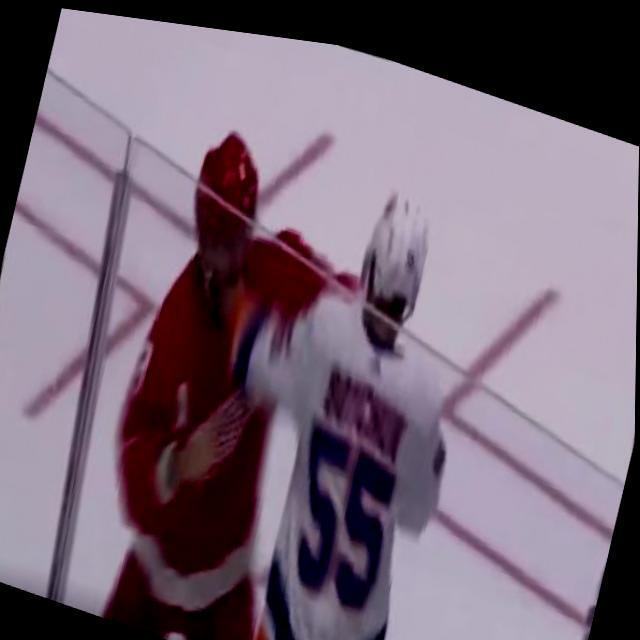fight: (59, 73, 524, 640)
